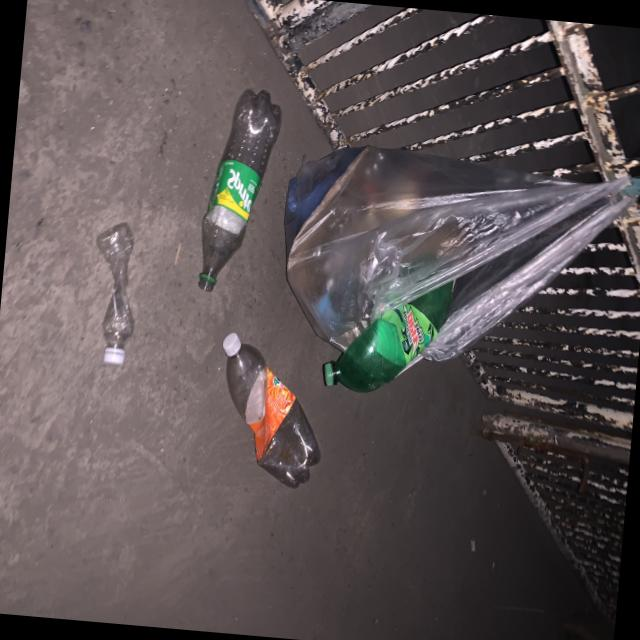Bottle: (198, 89, 281, 290), (223, 332, 320, 487), (97, 221, 133, 364)
